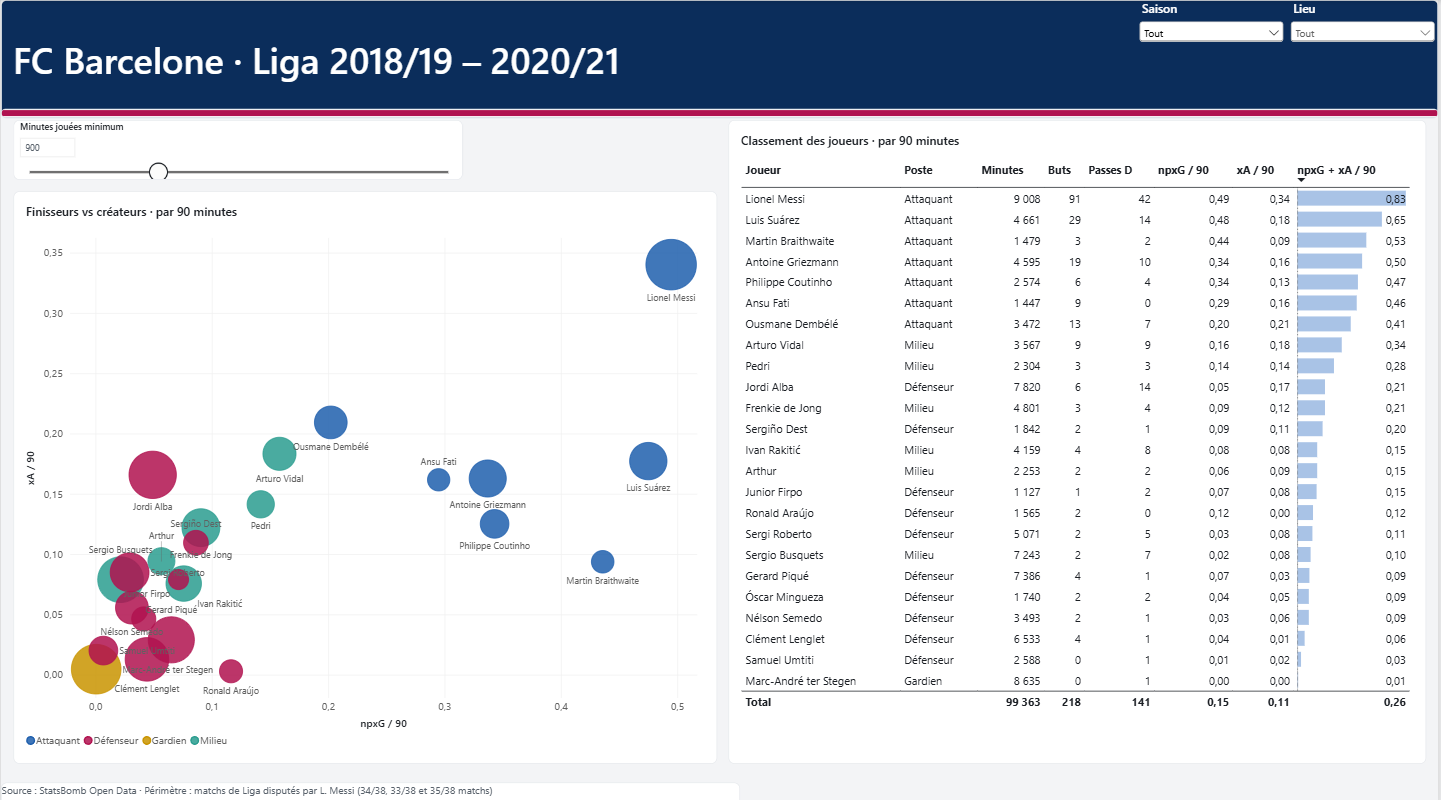

This screenshot's page, from the dashboard's own definition file:
{"tool":"powerbi","page":{"name":"Joueurs","canvas":[1920,1080],"ordinal":2},"visuals":[{"type":"shape","box":[0,0,1920,158],"z":0},{"type":"cardVisual","fields":{"Data":["_Mesures.Titre rapport"]},"box":[0,0,1516.1,158],"z":1000},{"type":"slicer","fields":{"Values":["DimMatch.season"]},"box":[1516.1,0,202,158],"z":2000},{"type":"slicer","fields":{"Values":["DimMatch.venue"]},"box":[1718,0,202,158],"z":3000},{"type":"shape","box":[0,146,1920,12],"z":9000},{"type":"textbox","box":[0,1045,987.4,30],"z":11000},{"type":"slicer","fields":{"Values":["Minutes minimum.Minutes minimum"]},"box":[16,160,600,80],"z":11001},{"type":"scatterChart","title":"Finisseurs vs créateurs · par 90 minutes","fields":{"Category":["DimPlayer.player_name"],"Series":["DimPlayer.position_group"],"Size":["_Mesures.Minutes jouées"],"X":["_Mesures.npxG / 90"],"Y":["_Mesures.xA / 90"]},"box":[16,255,940,765],"z":11002},{"type":"tableEx","title":"Classement des joueurs · par 90 minutes","fields":{"Values":["DimPlayer.player_name","DimPlayer.position_group","_Mesures.Minutes jouées","_Mesures.Buts joueur","_Mesures.Passes décisives","_Mesures.npxG / 90","_Mesures.xA / 90","_Mesures.npxG + xA / 90"]},"box":[972,160,932,860],"z":11003}]}

Visuals, with their boxes in screenshot pixels (x1, y1, x2, y2), scaled from the page's 1920x1080 canvas onto the 1441x800 screenshot:
shape: 0 0 1440 117
cardVisual - _Mesures.Titre rapport: 0 0 1138 117
slicer - DimMatch.season: 1138 0 1289 117
slicer - DimMatch.venue: 1289 0 1440 117
shape: 0 108 1440 117
textbox: 0 774 741 796
slicer - Minutes minimum.Minutes minimum: 12 119 462 178
"Finisseurs vs créateurs · par 90 minutes" scatterChart: 12 189 717 756
"Classement des joueurs · par 90 minutes" tableEx: 730 119 1429 756
